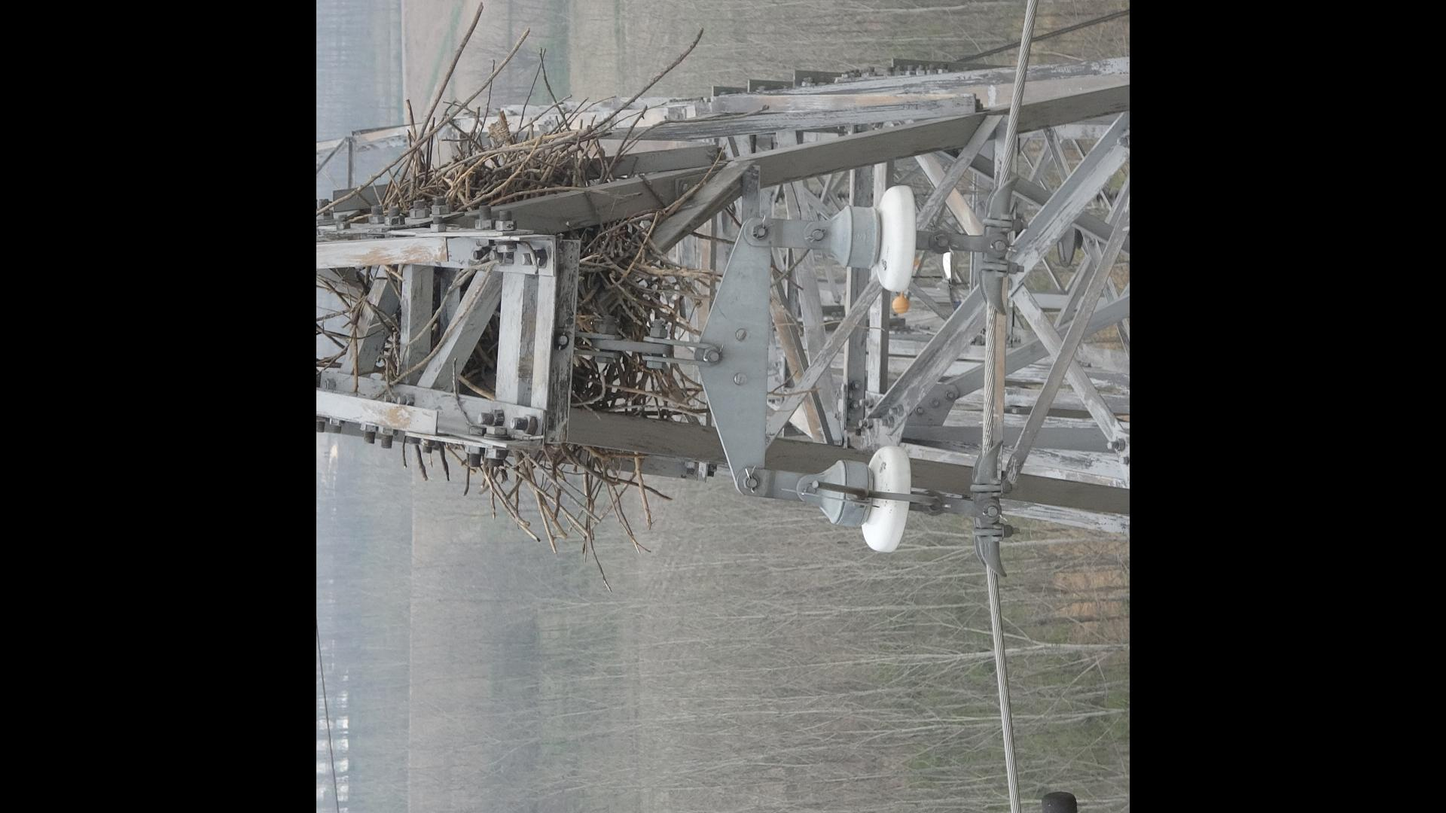nest: (367, 110, 694, 548)
